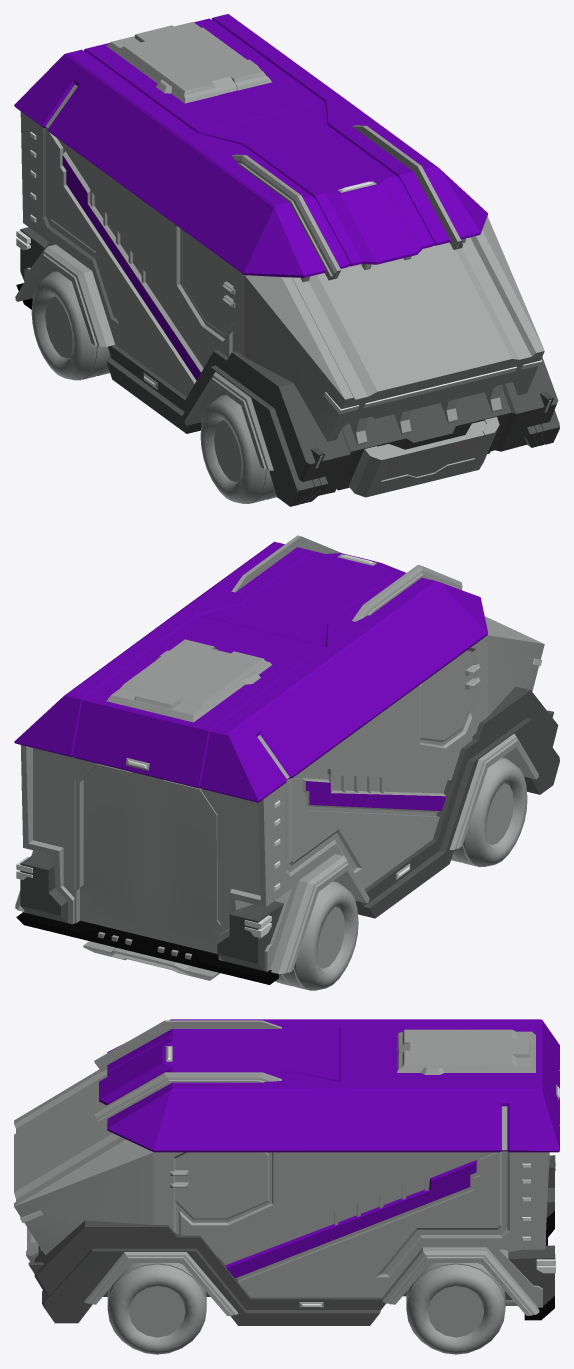
3 views of the same model, one above another, from view 1: azimuth 30°, elevation 25°; view 2: azimuth 150°, elevation 25°; view 3: azimuth 270°, elevation 25° (orthographic). The views are drawn at different scales.
Parts seen in each view (by area): view 1: G:\FFXIV-MapTools\exports\x6t1\bg\ex5\01_xkt_x6\twn\x6t1\bgp (×4); view 2: G:\FFXIV-MapTools\exports\x6t1\bg\ex5\01_xkt_x6\twn\x6t1\bgp (×4); view 3: G:\FFXIV-MapTools\exports\x6t1\bg\ex5\01_xkt_x6\twn\x6t1\bgp (×4).
Part boxes in pixels (x1=…): G:\FFXIV-MapTools\exports\x6t1\bg\ex5\01_xkt_x6\twn\x6t1\bgp (×4): x1=14, y1=14, x2=559, y2=506; G:\FFXIV-MapTools\exports\x6t1\bg\ex5\01_xkt_x6\twn\x6t1\bgp (×4): x1=14, y1=535, x2=559, y2=990; G:\FFXIV-MapTools\exports\x6t1\bg\ex5\01_xkt_x6\twn\x6t1\bgp (×4): x1=14, y1=1019, x2=559, y2=1354.
Bounding box in the file's own units: 3.82 × 3.7 × 7.24.
